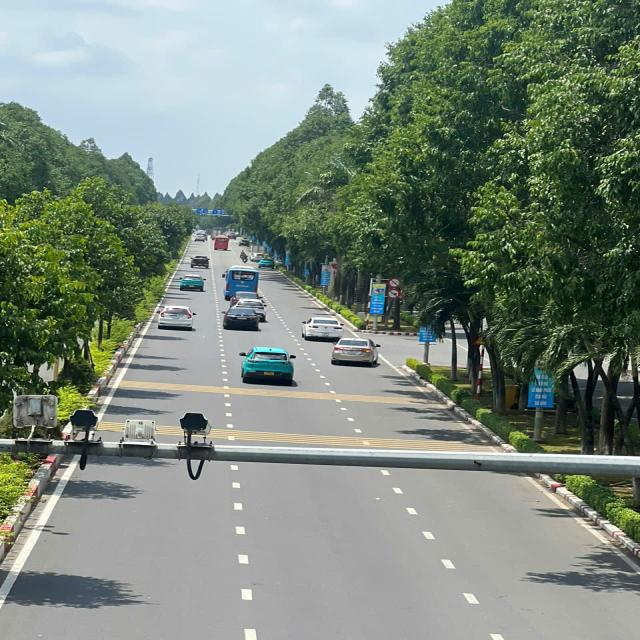Bus: (224, 264, 259, 303), (214, 237, 230, 251)
Truck: (212, 230, 222, 240)
car: (244, 346, 294, 384), (331, 337, 383, 367), (223, 307, 258, 330), (305, 320, 344, 339), (160, 306, 191, 329), (233, 299, 266, 319), (233, 290, 262, 307), (179, 274, 206, 291), (189, 254, 209, 269), (259, 258, 278, 270), (252, 245, 266, 258), (252, 254, 264, 261), (226, 232, 236, 240), (195, 235, 205, 242), (239, 240, 249, 247)
motobyte: (240, 252, 246, 260), (244, 255, 248, 263)
